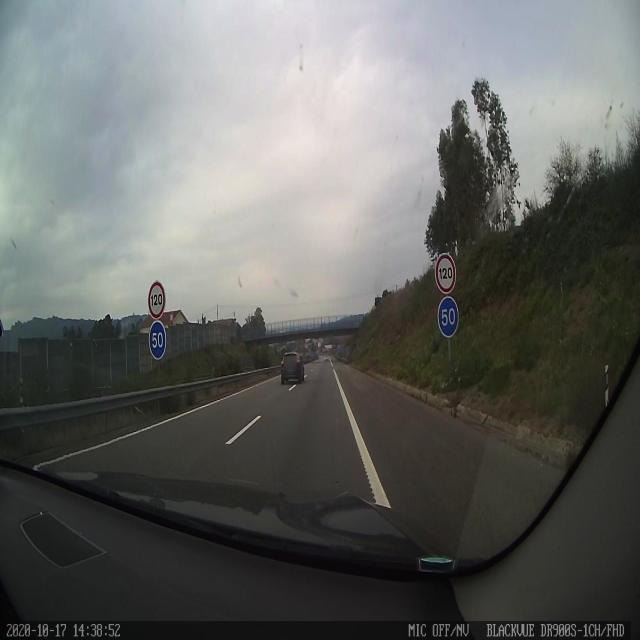car: (280, 350, 305, 384)
